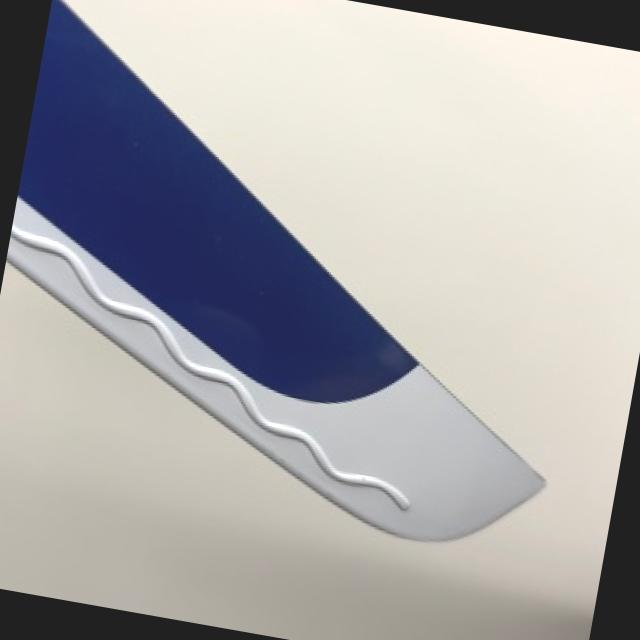healthy: (6, 0, 538, 538)
